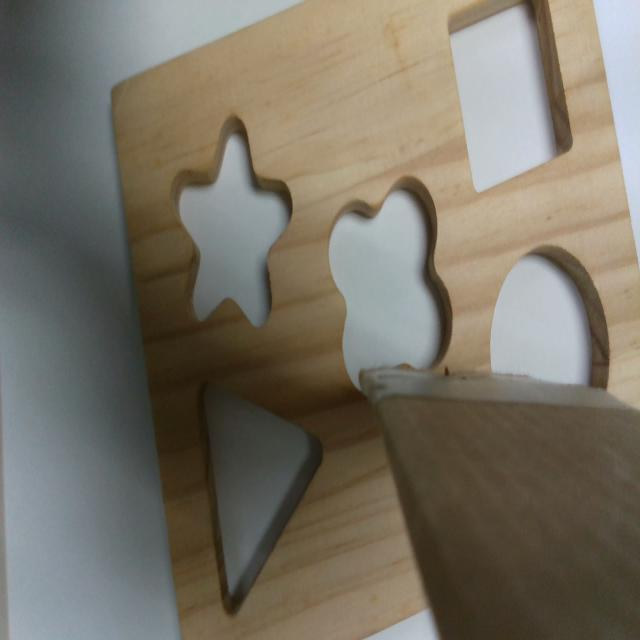circle: (490, 244, 612, 388)
flower: (326, 178, 451, 396)
square: (443, 0, 574, 197)
star: (172, 117, 290, 323)
triangle: (196, 378, 325, 617)
